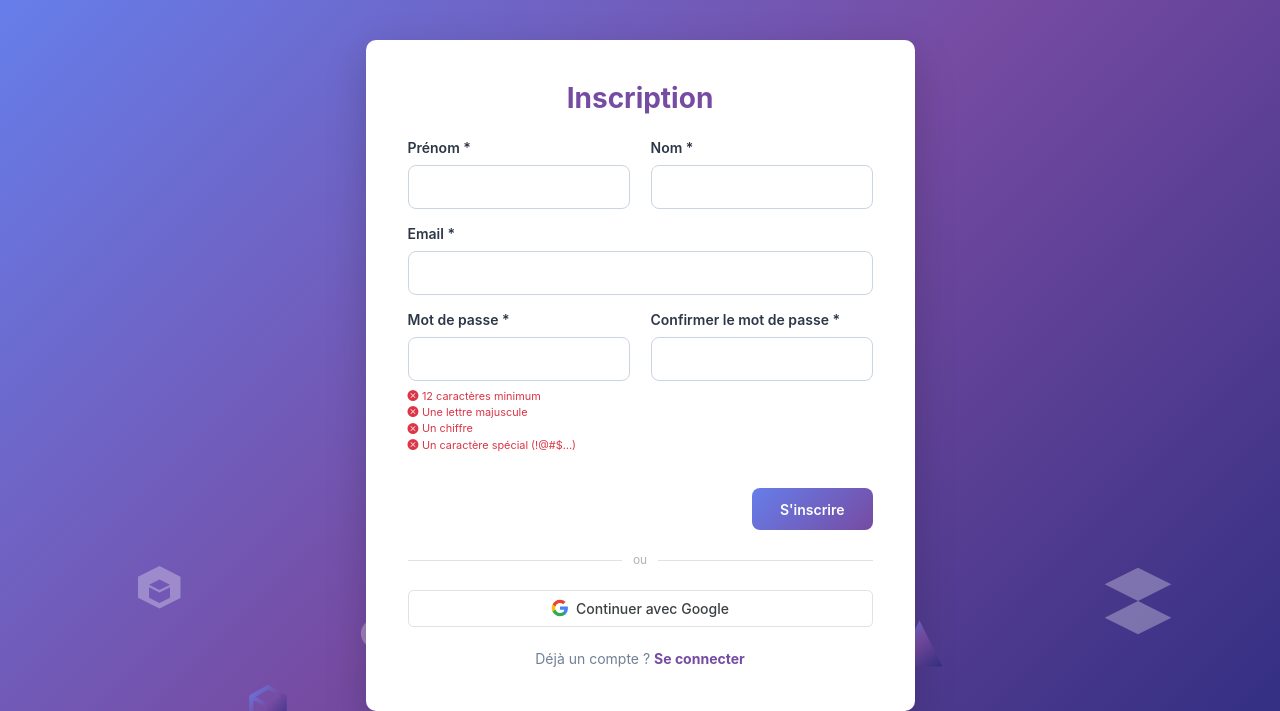
it: Page Register › affiche une erreur si le mot de passe est trop faible
Type "Jane" into the field labelled "Prénom *" at (518, 187), box x1=408 y1=165 x2=630 y2=209
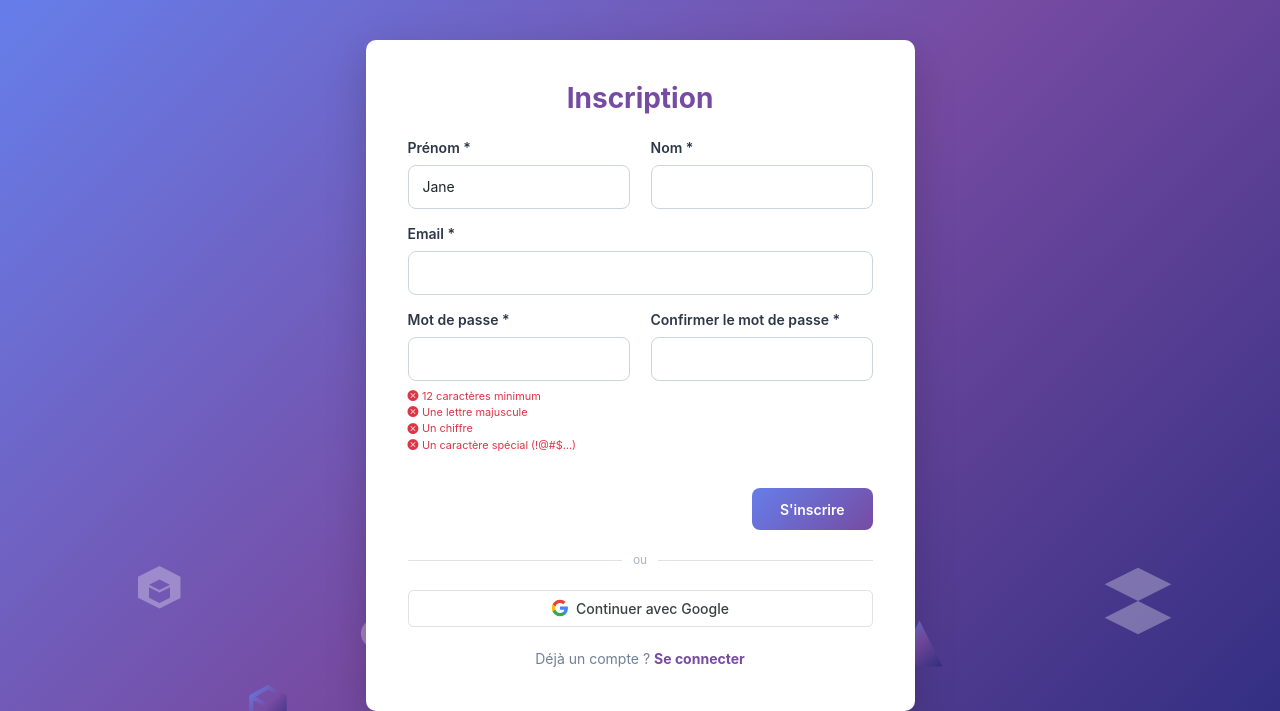
Type "Doe" into the field labelled "Nom *" at (762, 187), box x1=650 y1=165 x2=872 y2=209
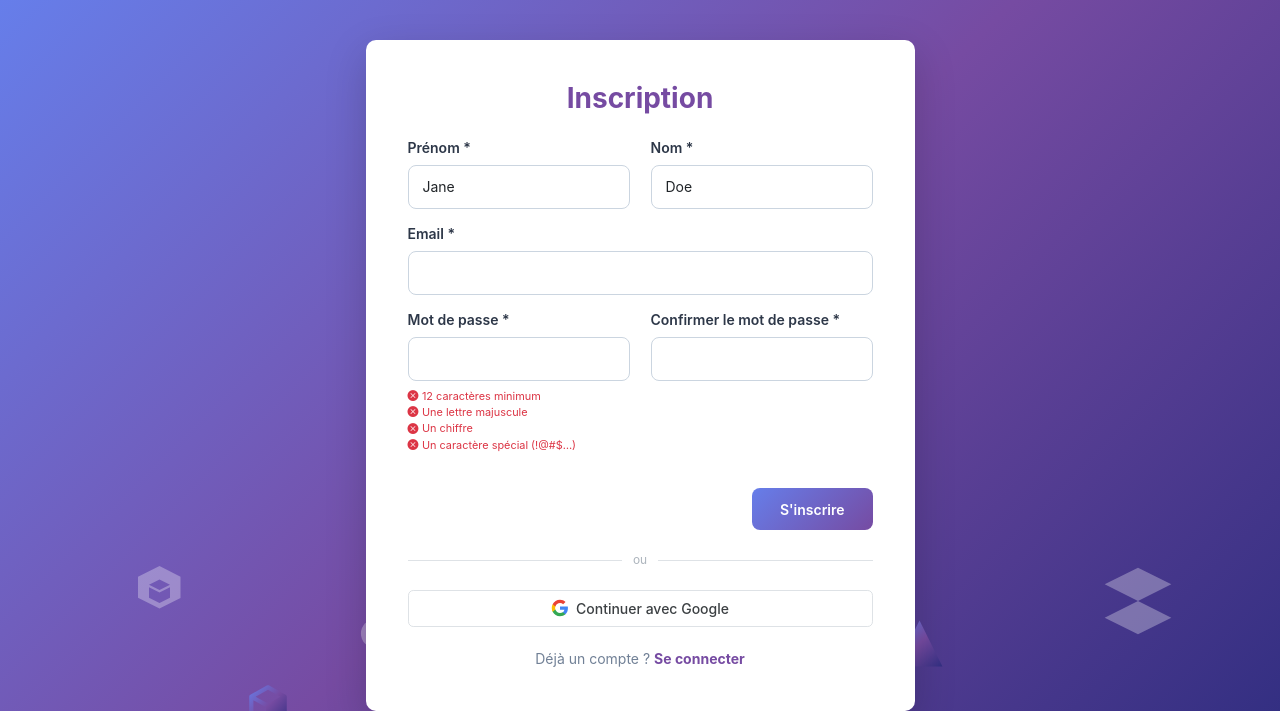
Type "jane@example.com" into the field labelled "Email *" at (640, 273), box x1=408 y1=251 x2=872 y2=295
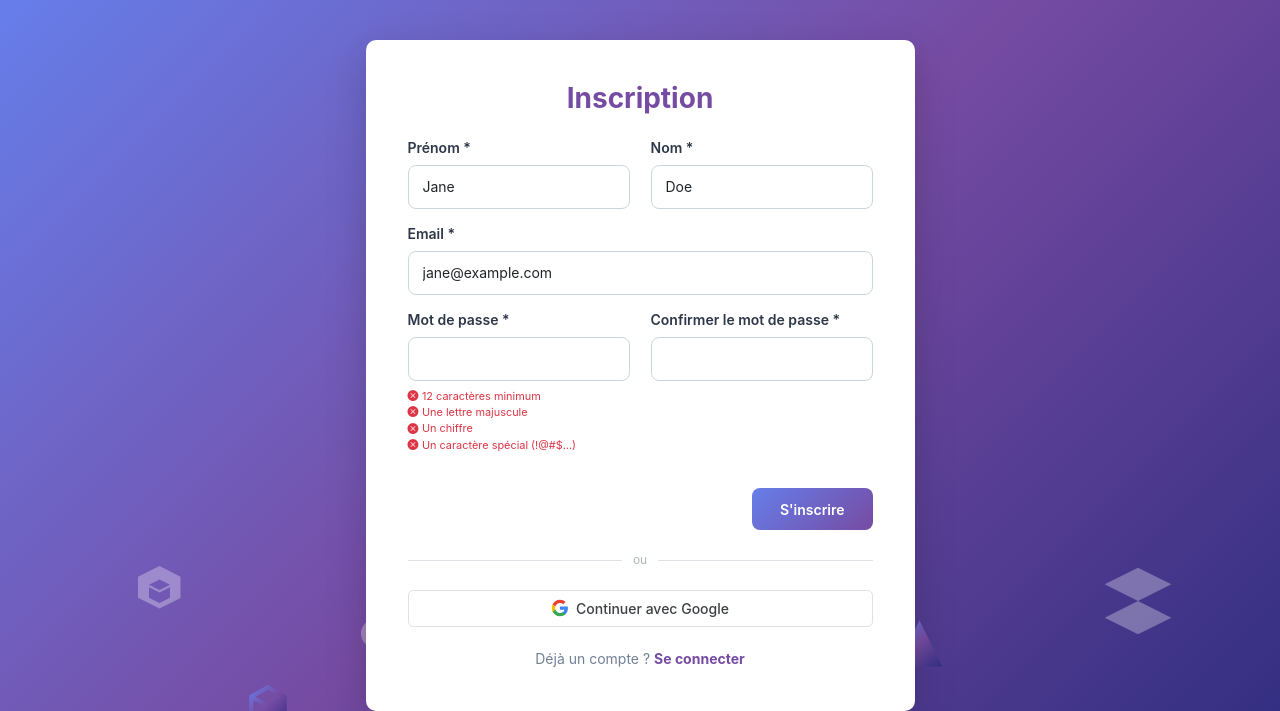
Type "123456" into the password field labelled "Mot de passe *" at (518, 359), box x1=408 y1=337 x2=630 y2=381
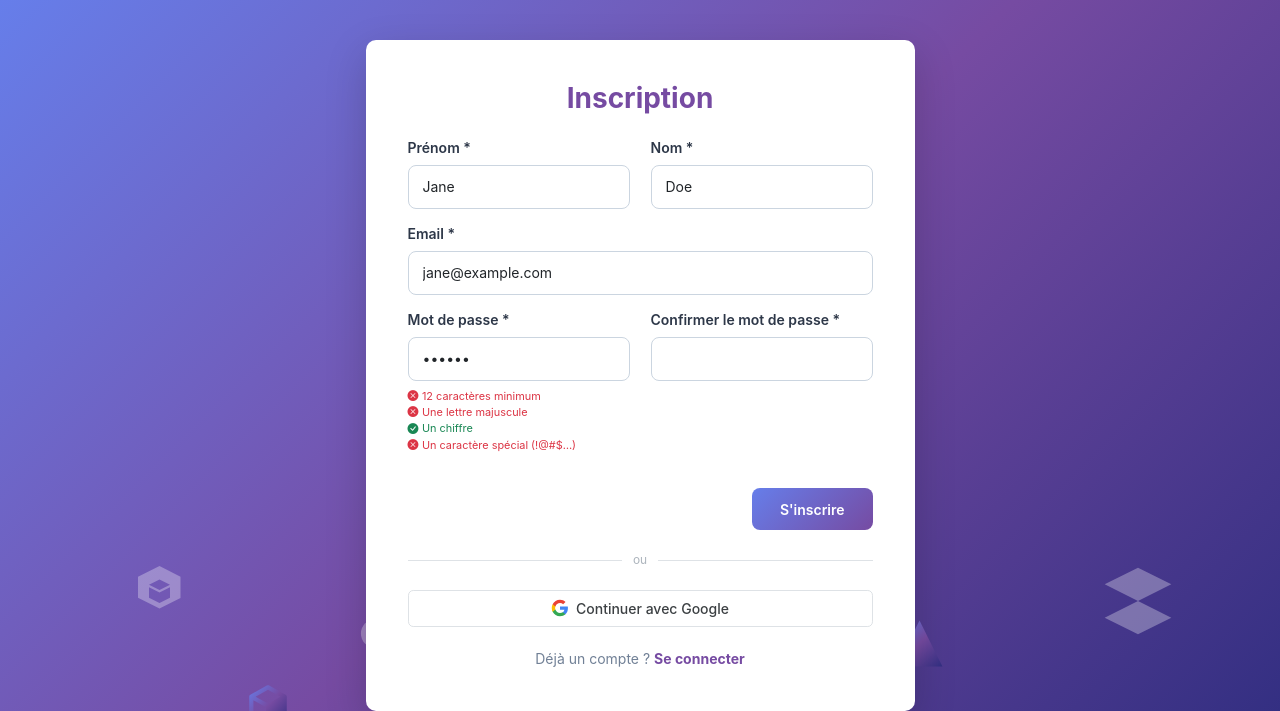
Type "123456" into the password field labelled "Confirmer le mot de passe *" at (762, 359), box x1=650 y1=337 x2=872 y2=381
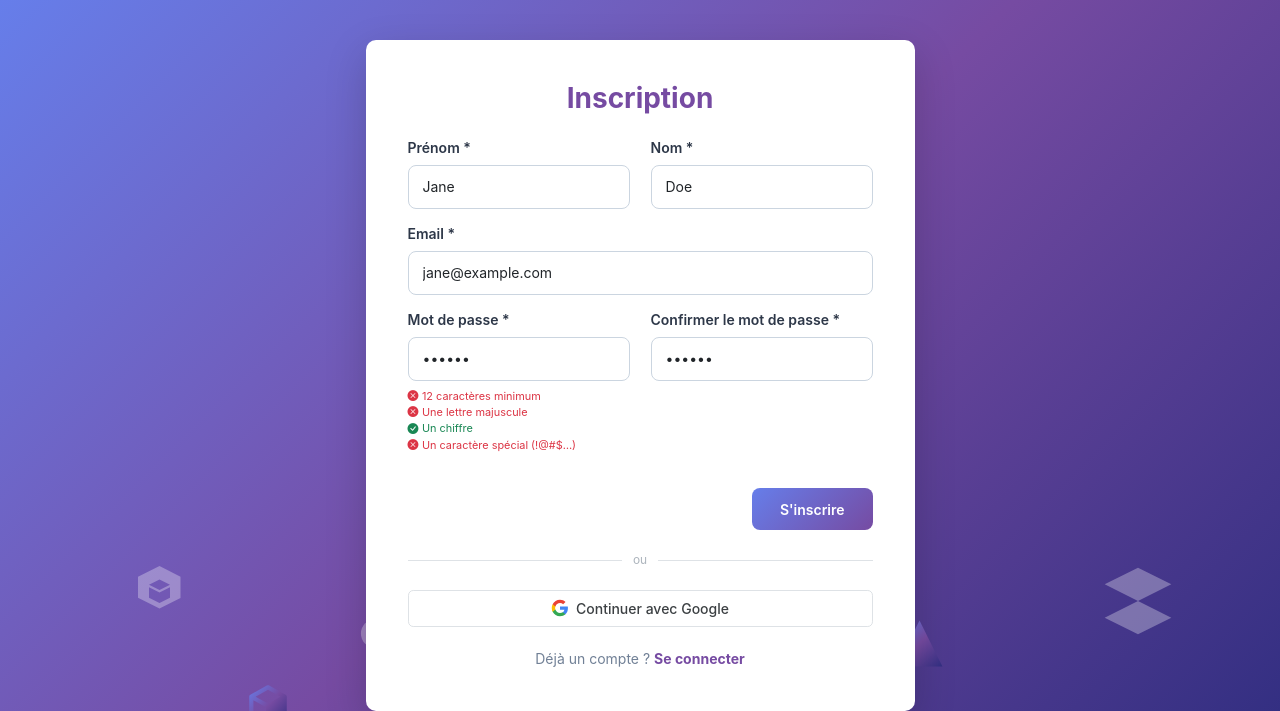
Click the button "S'inscrire" at (812, 509), box x1=752 y1=488 x2=872 y2=530
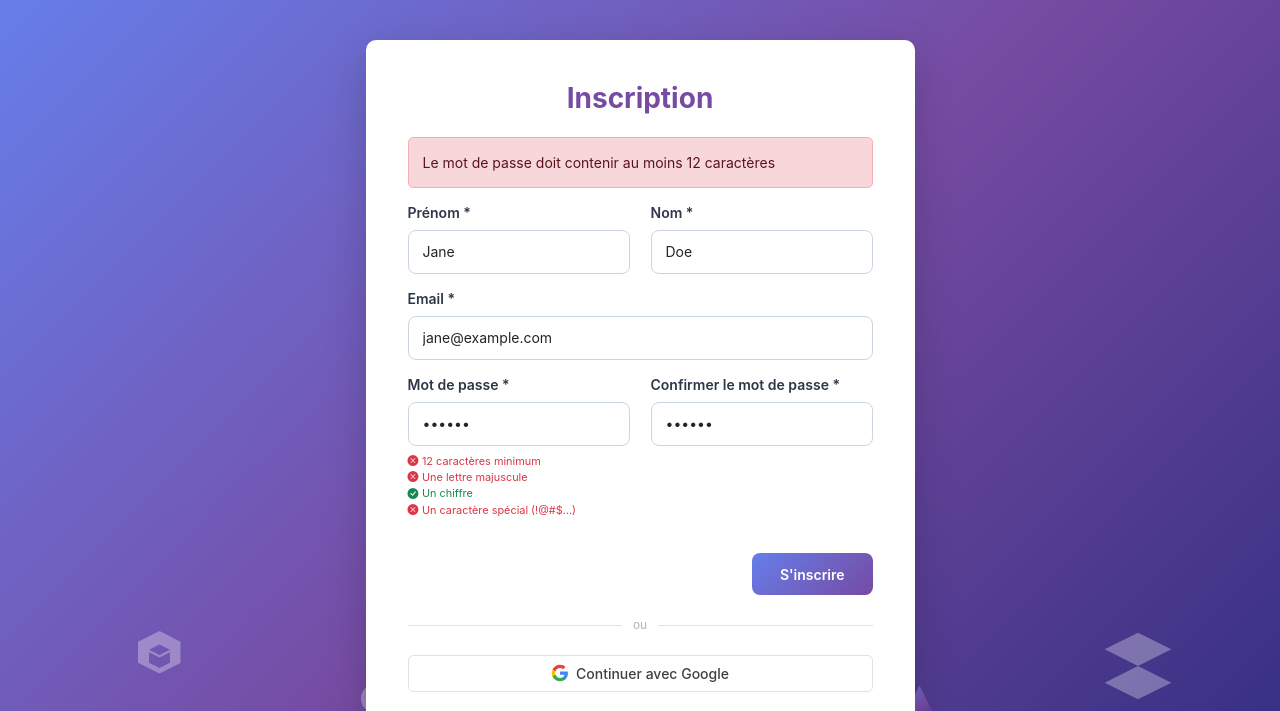
Expected: the text "Le mot de passe doit contenir au moins 12 caractères" is shown, x1=408 y1=137 x2=872 y2=188
